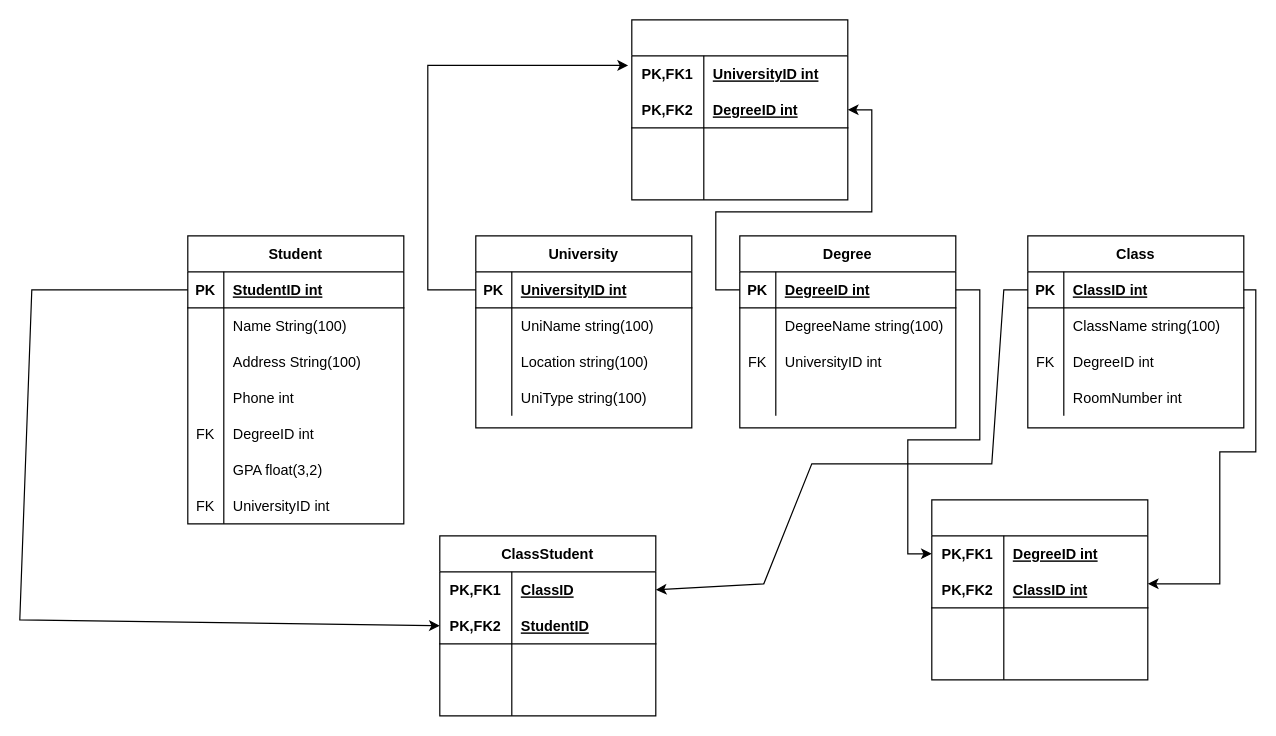
The diagram is 1276 pixels wide and 736 high, and some of its shapes have lost their labels. The box of each missing label's shape, as (x1, y1, x2, y2) in pixels:
DegreeClass: (931, 499, 1148, 680)
UniversityDegree: (631, 19, 848, 200)
